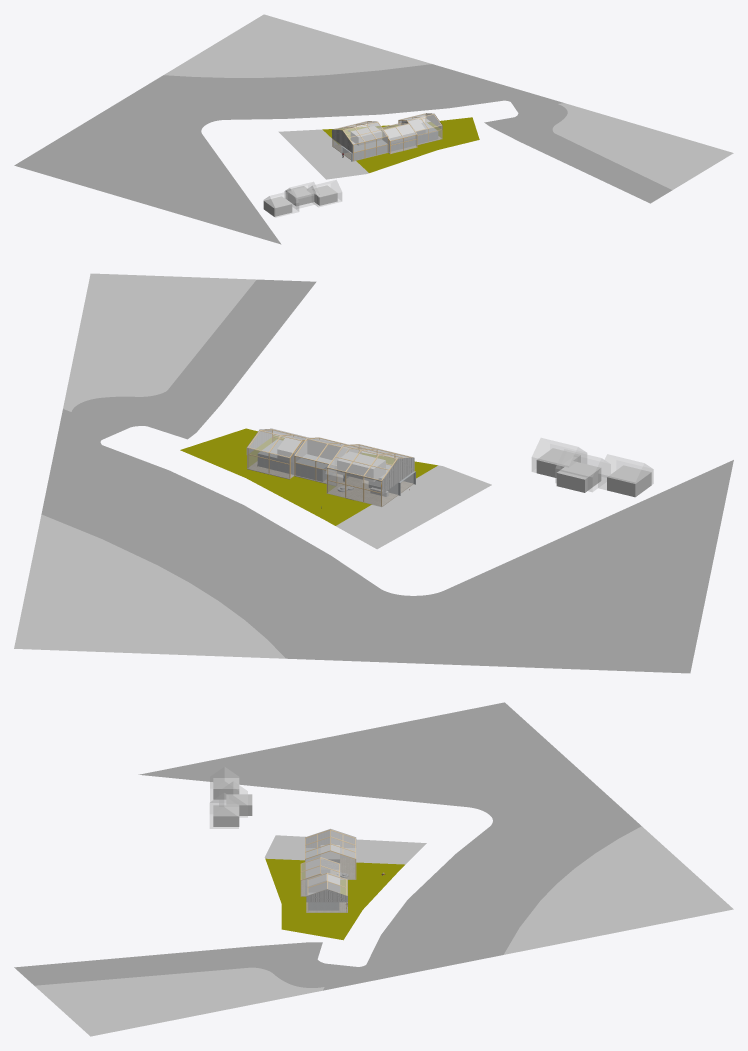
3 renders of one model, top to bottom at view 1: azimuth 30°, elevation 25°; view 2: azimuth 150°, elevation 25°; view 3: azimuth 270°, elevation 25°, orthographic. The views are drawn at different scales.
Parts seen in each view (by area): view 1: root; view 2: root; view 3: root.
Boxes of the visible parts, box(x1,y1,x2,y2) form: root: box(14, 14, 733, 244); root: box(14, 273, 733, 673); root: box(14, 702, 733, 1036).
Bounding box in the file's own units: 183 × 7.53 × 166.
Materials: 41 (5 with a texture image).
